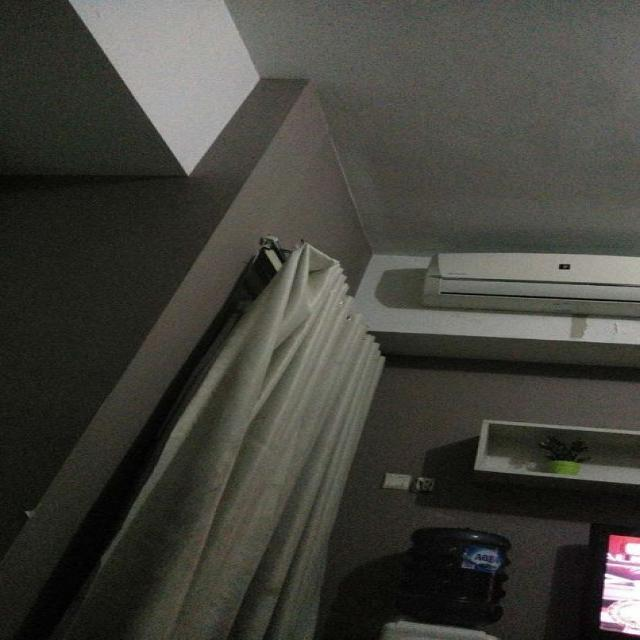AC: (419, 250, 639, 319)
